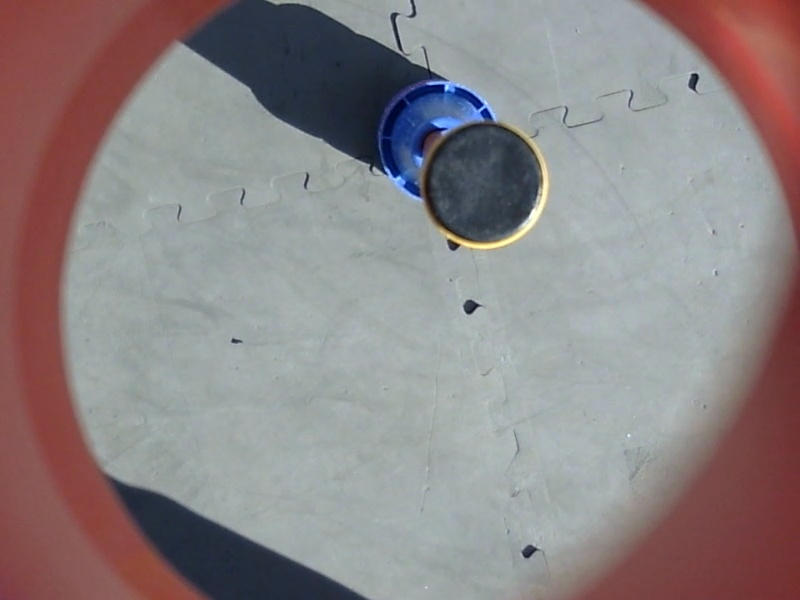tip: (411, 117, 557, 257)
